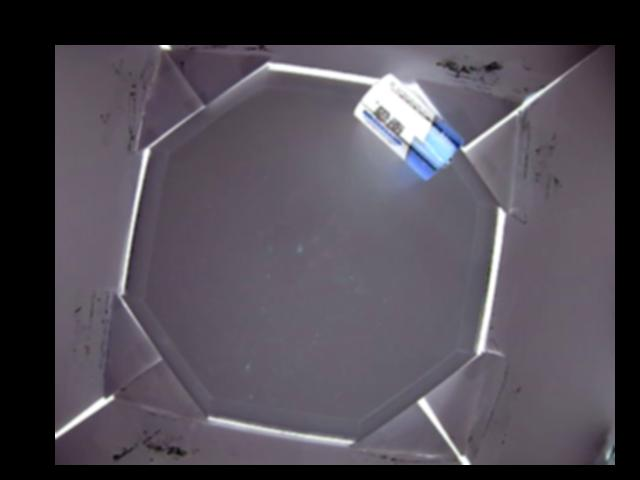Battery: (350, 73, 463, 180)
